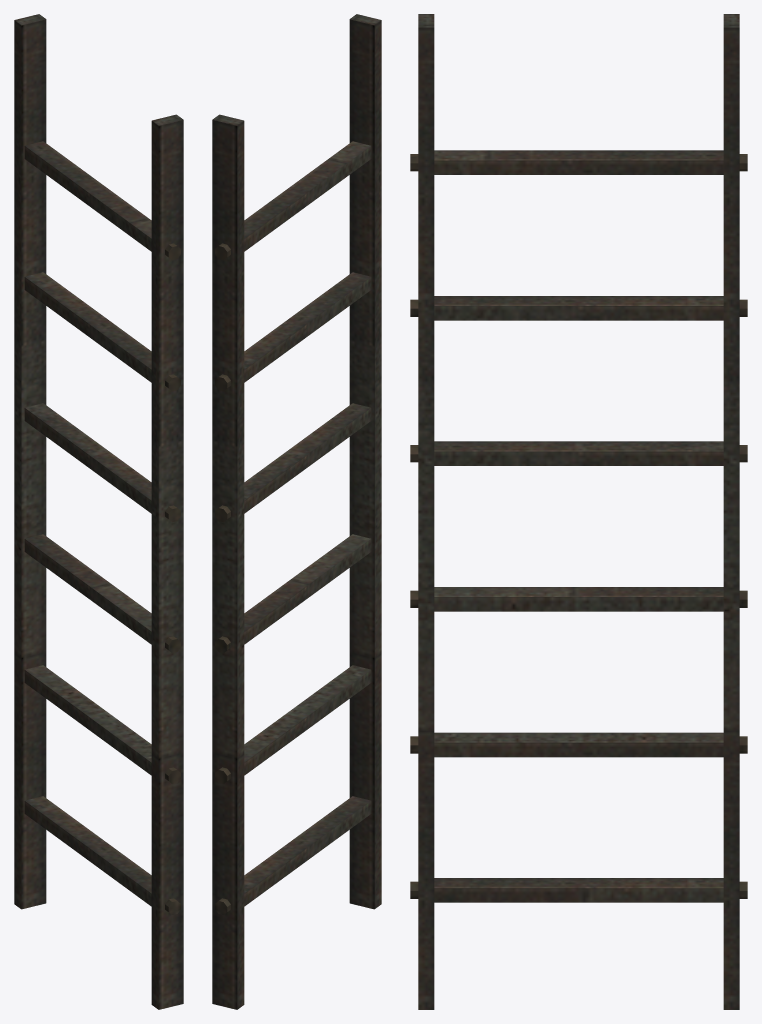
The model's file is ladder_hr_1_short.obj.
3 renders of one model, left to right at view 1: azimuth 30°, elevation 25°; view 2: azimuth 150°, elevation 25°; view 3: azimuth 270°, elevation 25°, orthographic. The views are drawn at different scales.
Parts seen in each view (by area): view 1: ladder_hr_1_short; view 2: ladder_hr_1_short; view 3: ladder_hr_1_short.
Part boxes in pixels (box(x1,y1,x2,y2)): ladder_hr_1_short: box(14, 14, 183, 1009); ladder_hr_1_short: box(212, 14, 381, 1009); ladder_hr_1_short: box(410, 14, 747, 1009).
Size of the model in its own units: 0.08 by 2.7 by 0.84.
